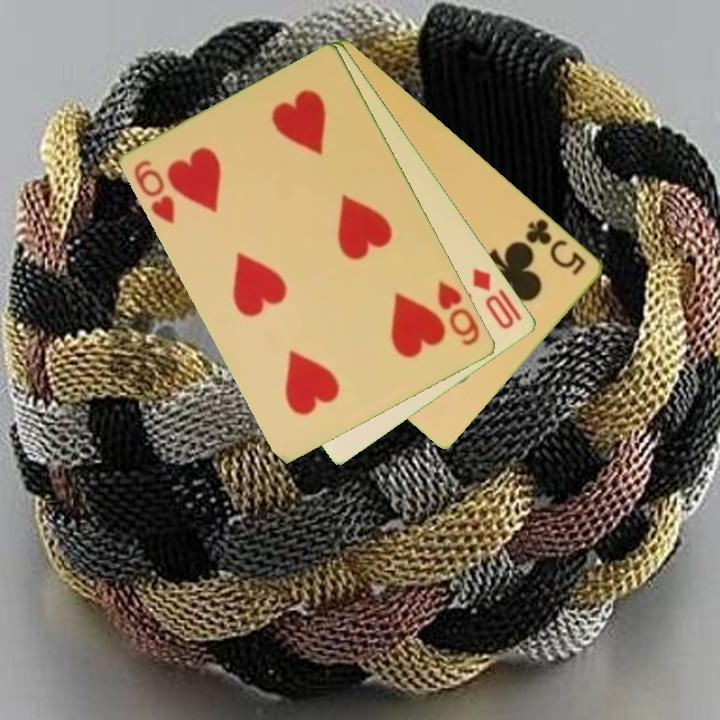10d: (469, 265, 526, 333)
5c: (522, 215, 590, 279)
6h: (434, 277, 484, 349), (131, 156, 179, 228)
